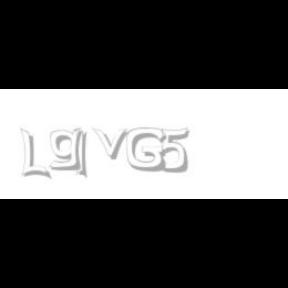5: (158, 128, 189, 174)
G: (126, 128, 166, 172)
L: (20, 128, 48, 180)
g: (50, 128, 86, 171)
l: (75, 128, 91, 180)
v: (92, 128, 132, 160)
